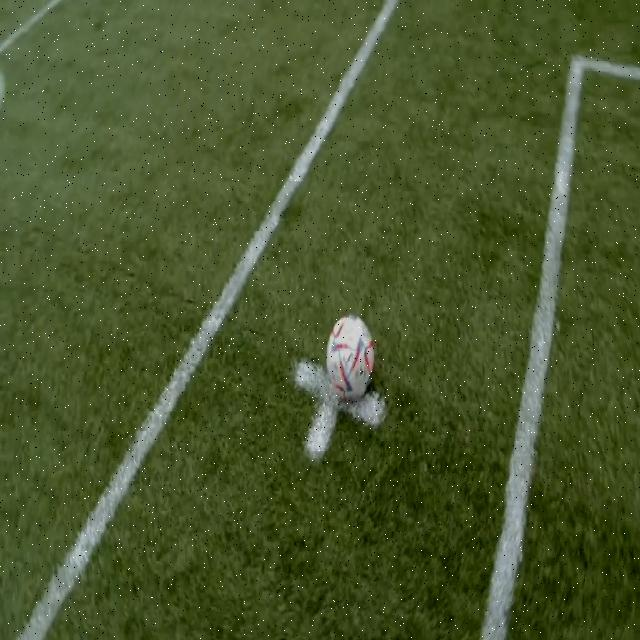ball: (326, 316, 374, 398)
